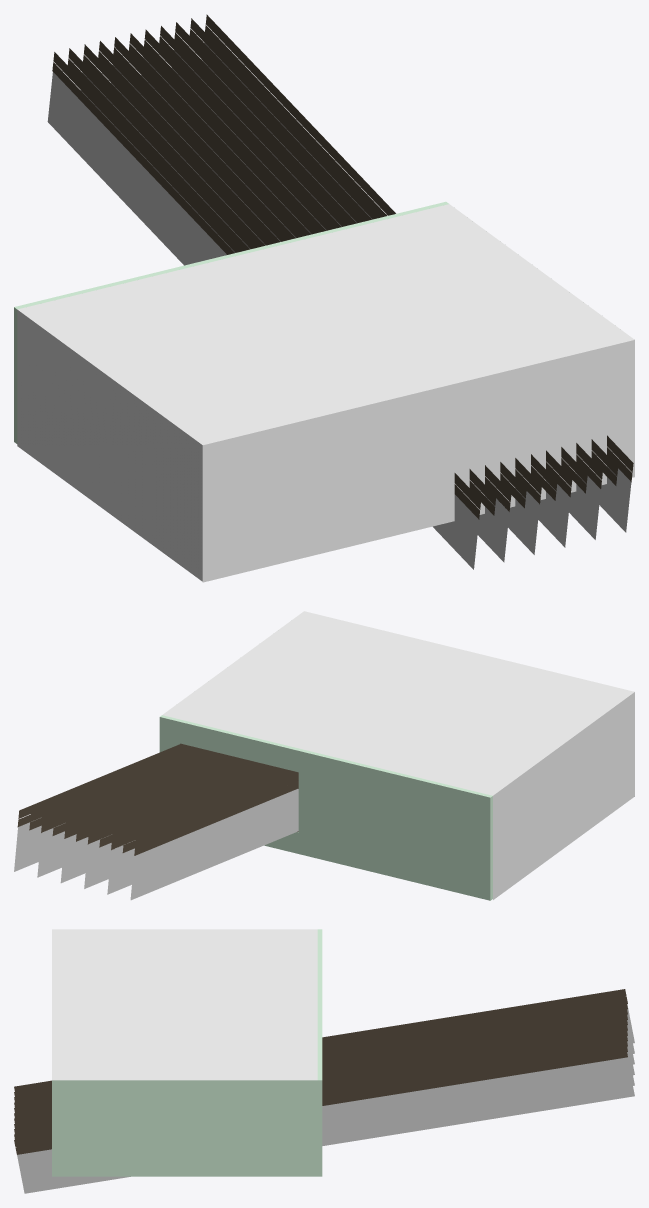
File: house.glb
3 renders of one model, top to bottom at view 1: azimuth 30°, elevation 25°; view 2: azimuth 150°, elevation 25°; view 3: azimuth 270°, elevation 25°, orthographic. The views are drawn at different scales.
Visible parts, largest first — view 1: house_ceiling, god_rays_top, god_rays_bottom, house_walls; view 2: house_ceiling, house_walls, god_rays_top, god_rays_bottom; view 3: house_ceiling, house_walls, god_rays_top, god_rays_bottom.
Boxes of the visible parts, box(x1,y1,x2,y2) form: house_ceiling: box(17, 204, 634, 582); god_rays_top: box(52, 14, 633, 519); god_rays_bottom: box(47, 43, 631, 569); house_walls: box(14, 201, 448, 443); house_ceiling: box(162, 611, 634, 899); house_walls: box(159, 715, 492, 900); god_rays_top: box(17, 743, 298, 855); god_rays_bottom: box(14, 789, 298, 900); house_ceiling: box(52, 929, 317, 1080); house_walls: box(52, 929, 322, 1176); god_rays_top: box(14, 989, 627, 1154); god_rays_bottom: box(17, 1004, 634, 1193).
Bounding box in the file's own units: 80.98 × 37.91 × 141.
